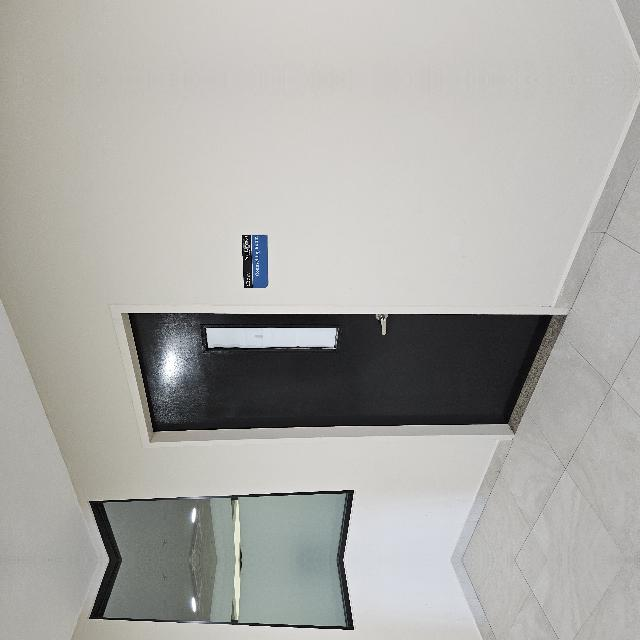door: (110, 182, 266, 640), (110, 460, 266, 640)
